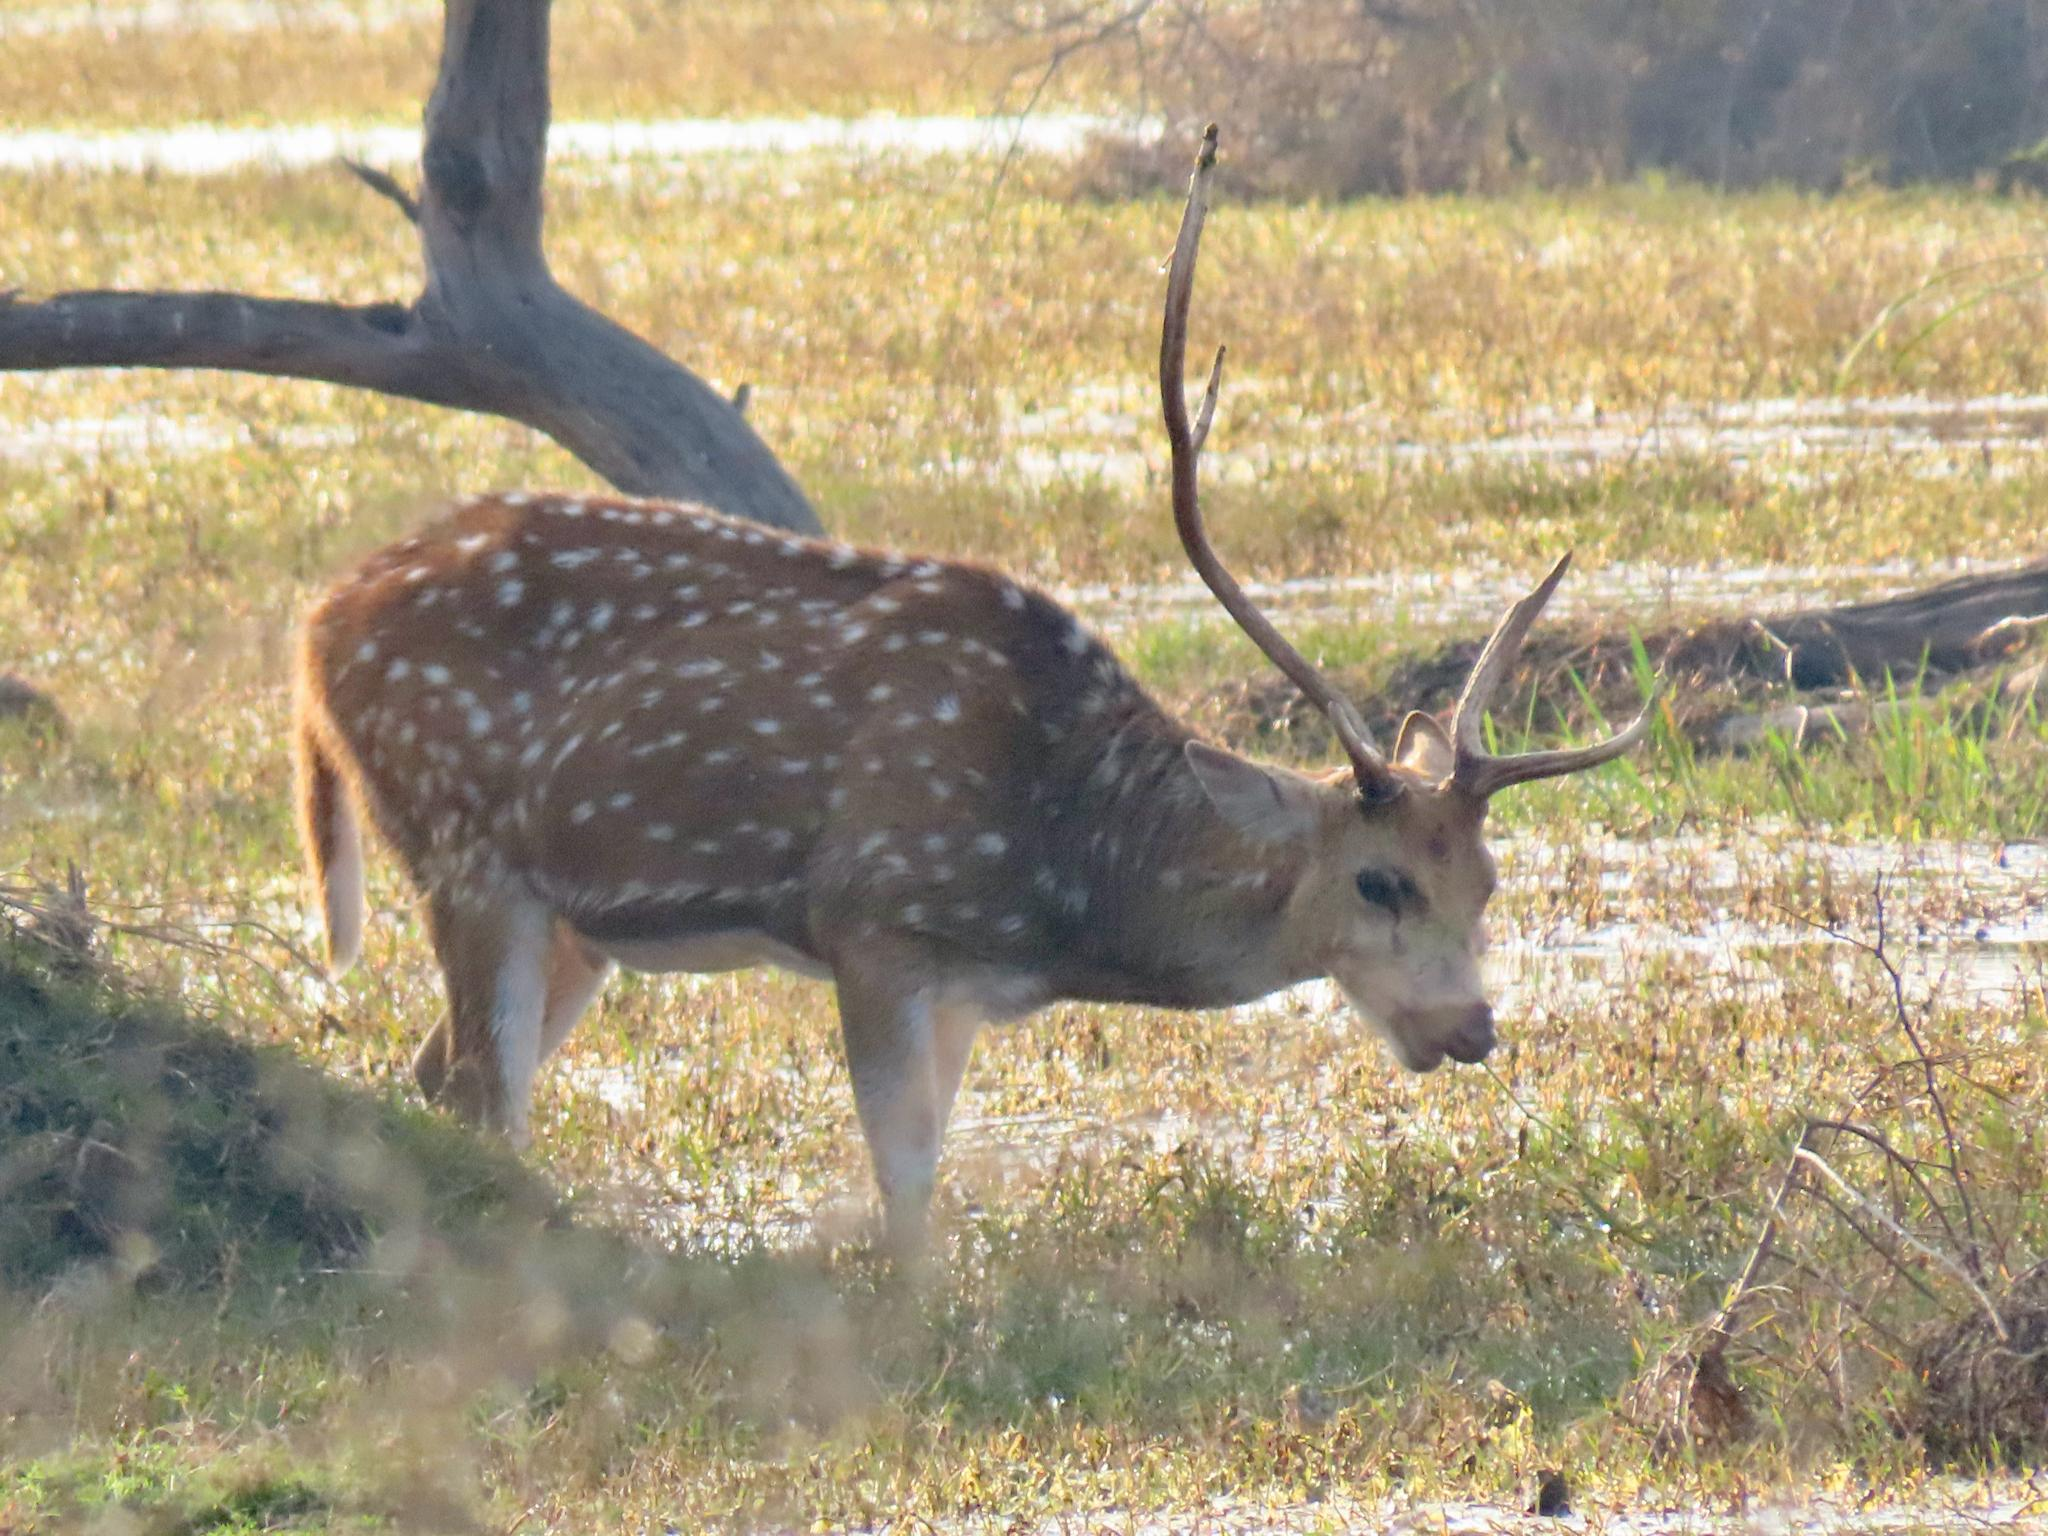Deer: (297, 126, 1659, 1244)
